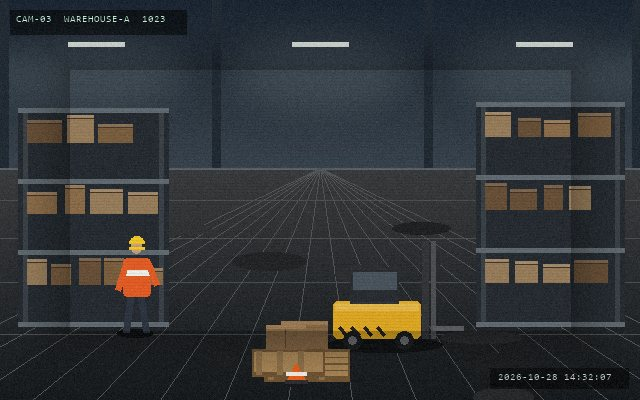cone: (284, 361, 308, 386)
forklift: (329, 239, 465, 352)
pallet: (262, 347, 351, 383), (250, 347, 326, 378)
person: (115, 234, 159, 336)
shelf: (476, 102, 624, 322), (18, 108, 168, 322)
